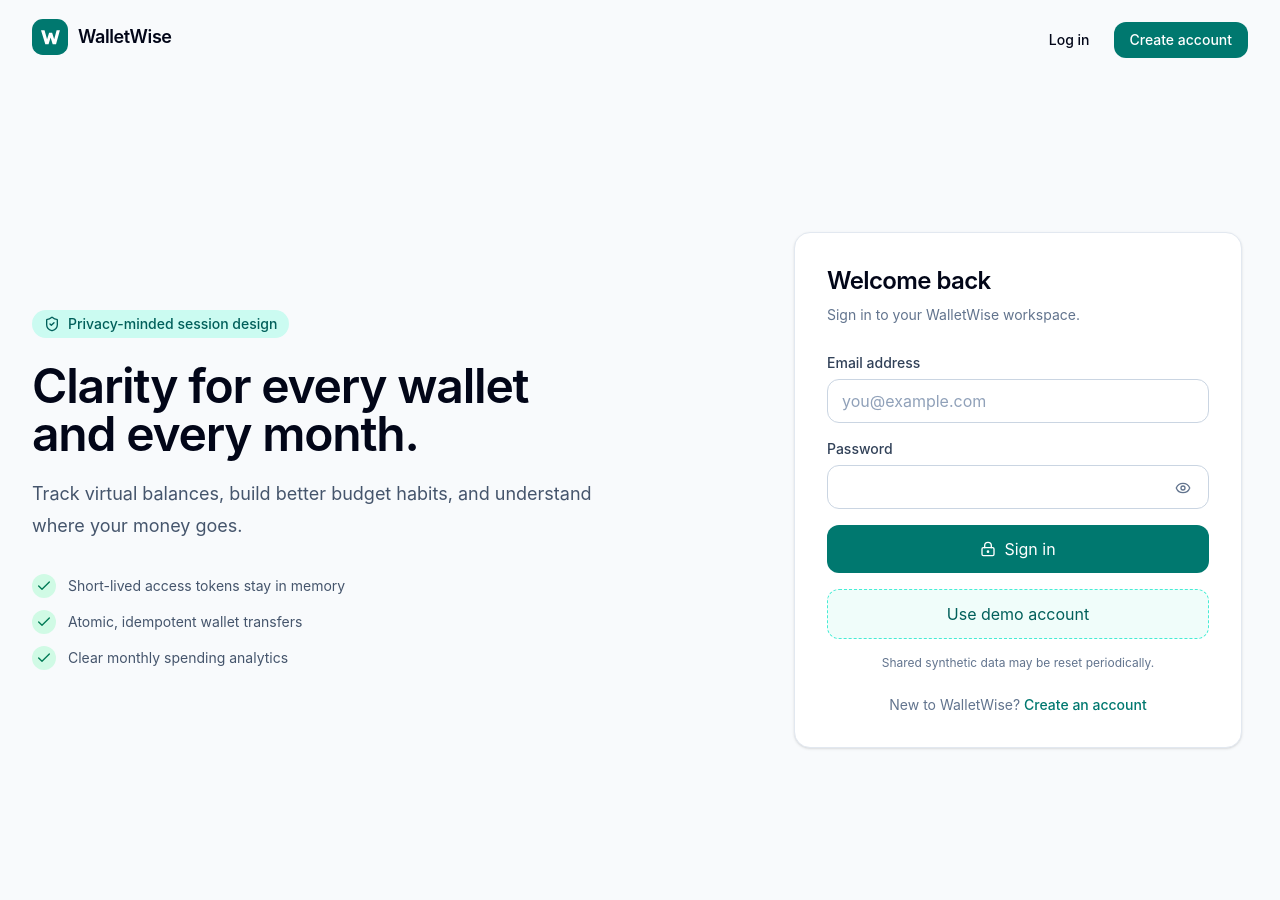
Test: login form reports accessible validation errors and fills demo credentials
The image size is (1280, 900).
Expected: the heading "Welcome back" is shown, [827,266,991,295]
Click the button "Sign in" at {"x": 1018, "y": 549}, box [827,525,1209,573]
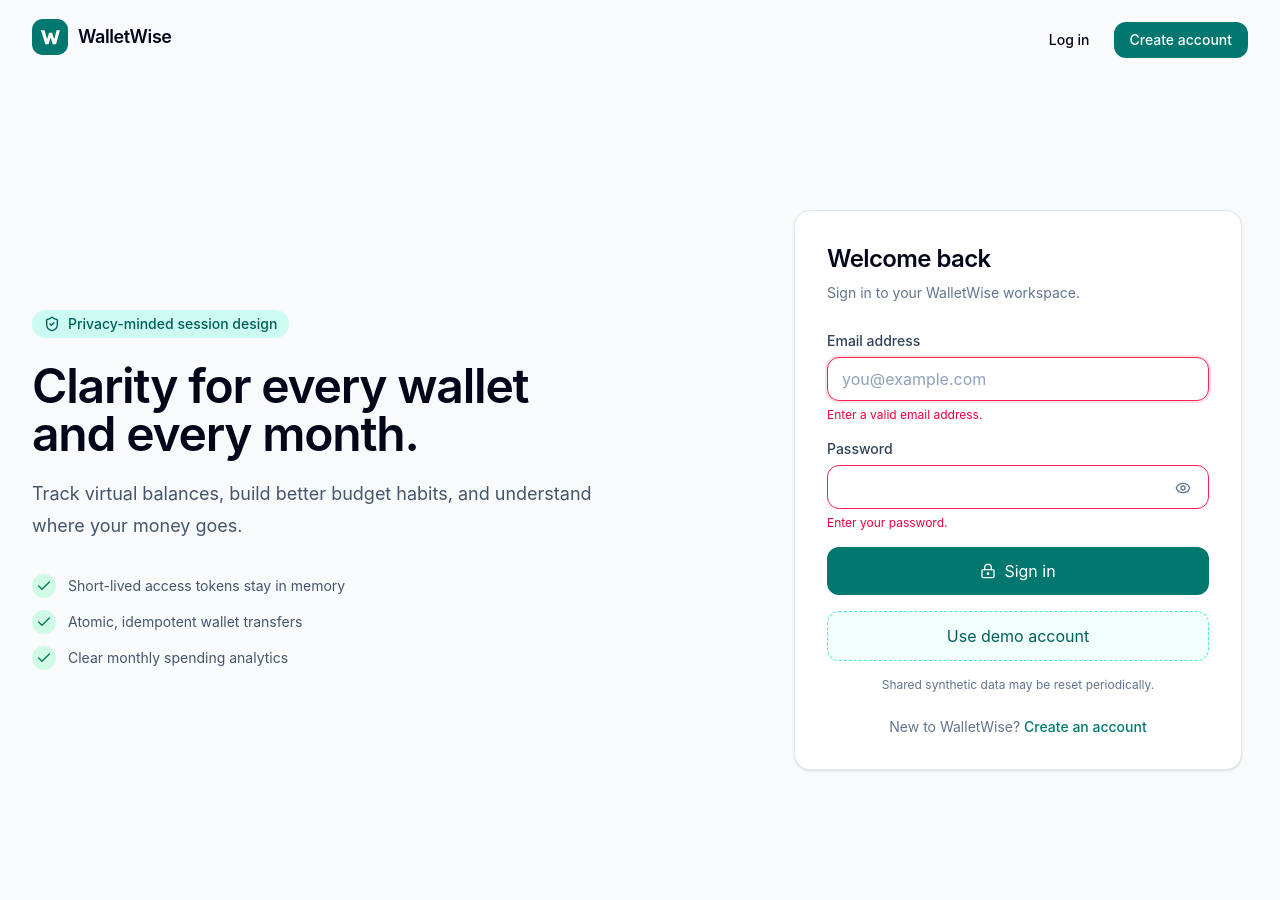
Expected: the text "Enter a valid email address." is shown, [827,407,982,422]
Expected: the text "Enter your password." is shown, [827,515,948,530]
Click the button "Use demo account" at {"x": 1018, "y": 636}, box [827,611,1209,661]
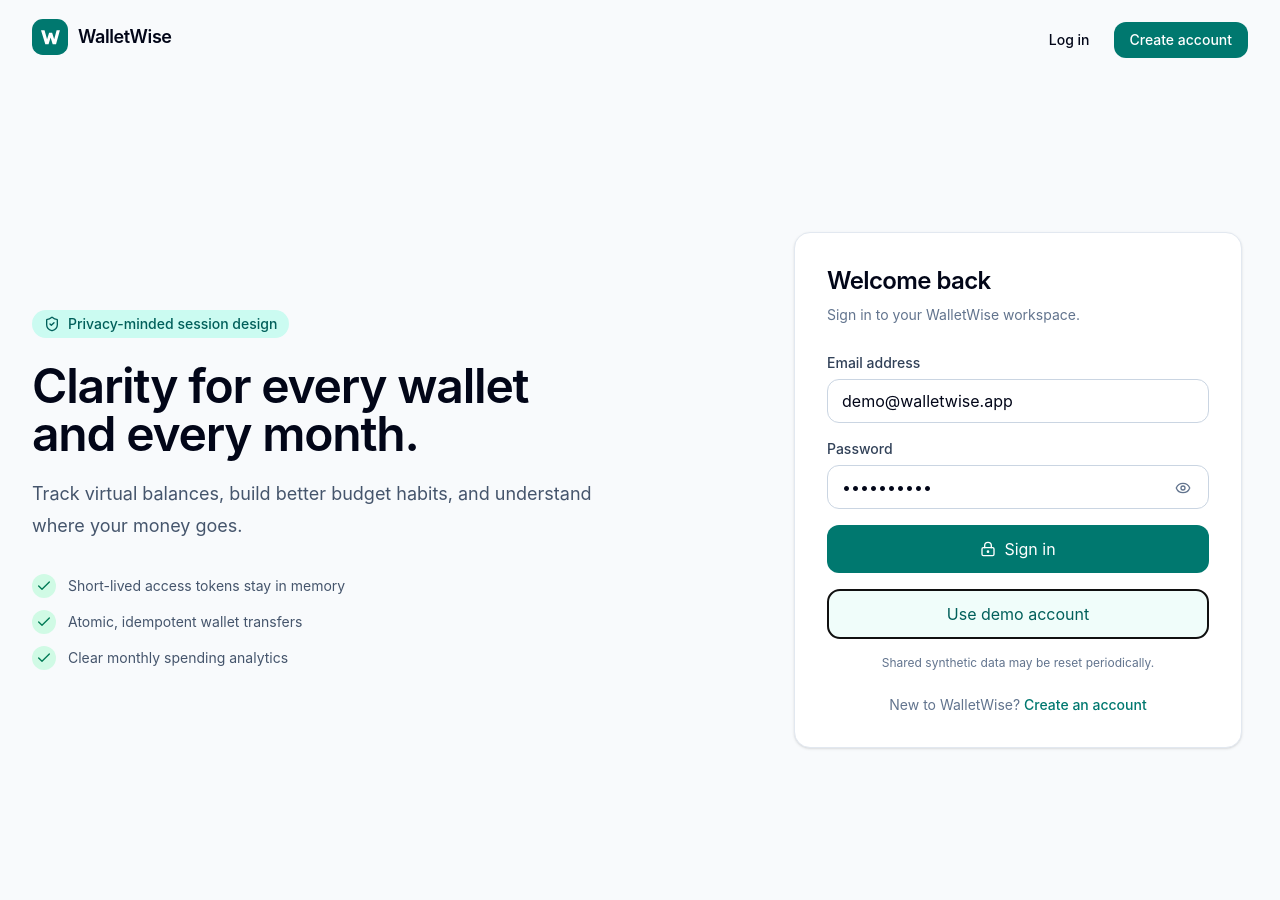
Expected: the field labelled "Email address" holds "demo@walletwise.app", [827,379,1209,423]
Expected: the password field labelled "Password" holds "Demo@12345", [827,465,1209,509]
